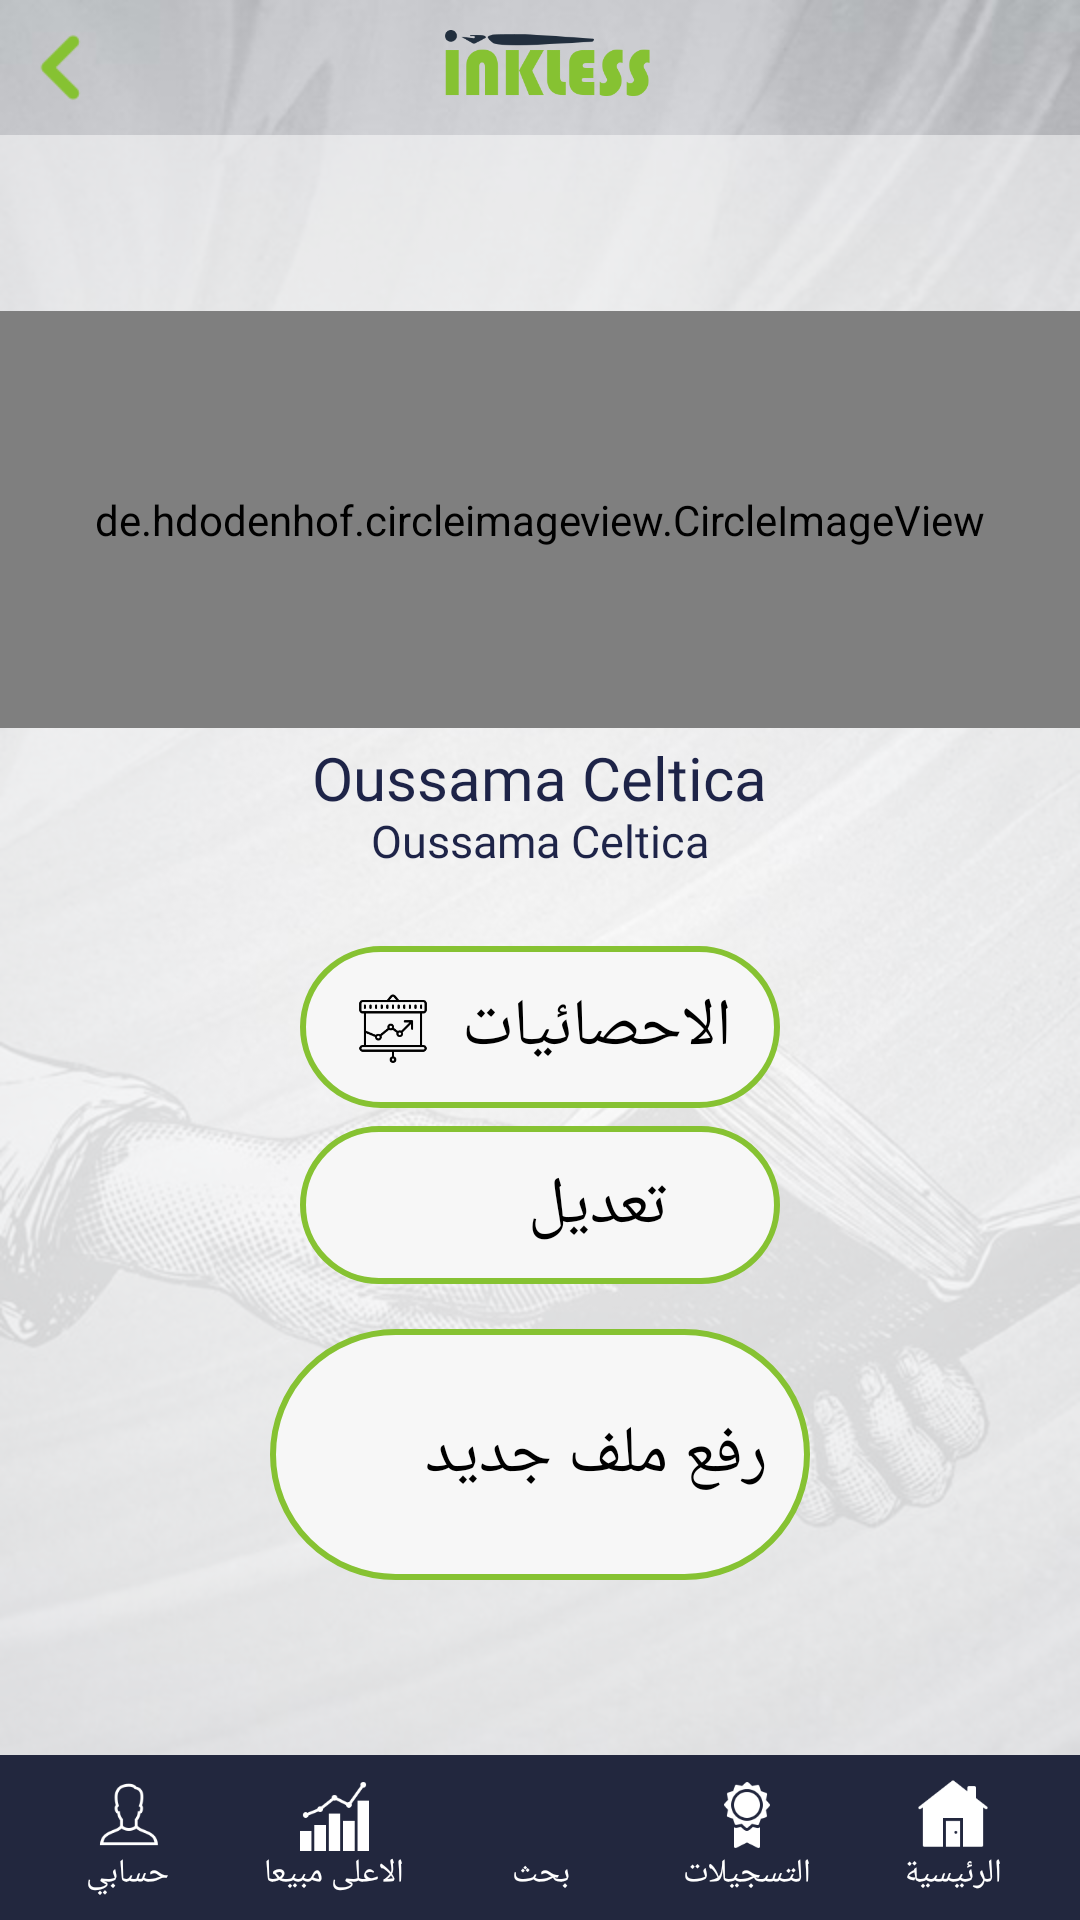

Screen size 1080w x 1920h. Icon name, then its center in pixels as [x,y]:
backk: [60,67]
home: [953,1813]
prize: [747,1815]
stat: [393,1028], [334,1816]
user: [129,1814]
